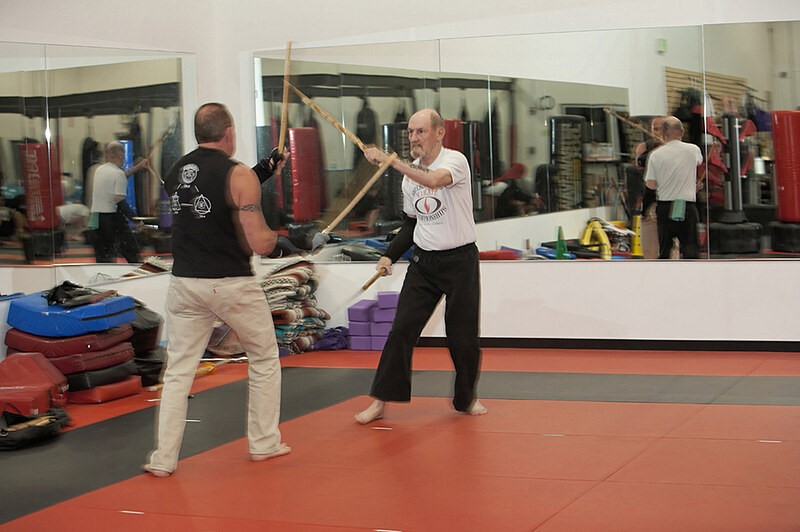baston_e: (325, 152, 393, 236), (286, 78, 361, 150), (274, 46, 294, 171), (606, 108, 662, 143), (148, 128, 169, 159), (366, 266, 383, 289)
baston_v: (274, 167, 283, 176), (284, 39, 295, 46), (391, 149, 399, 158), (360, 282, 368, 290), (601, 106, 609, 112)
